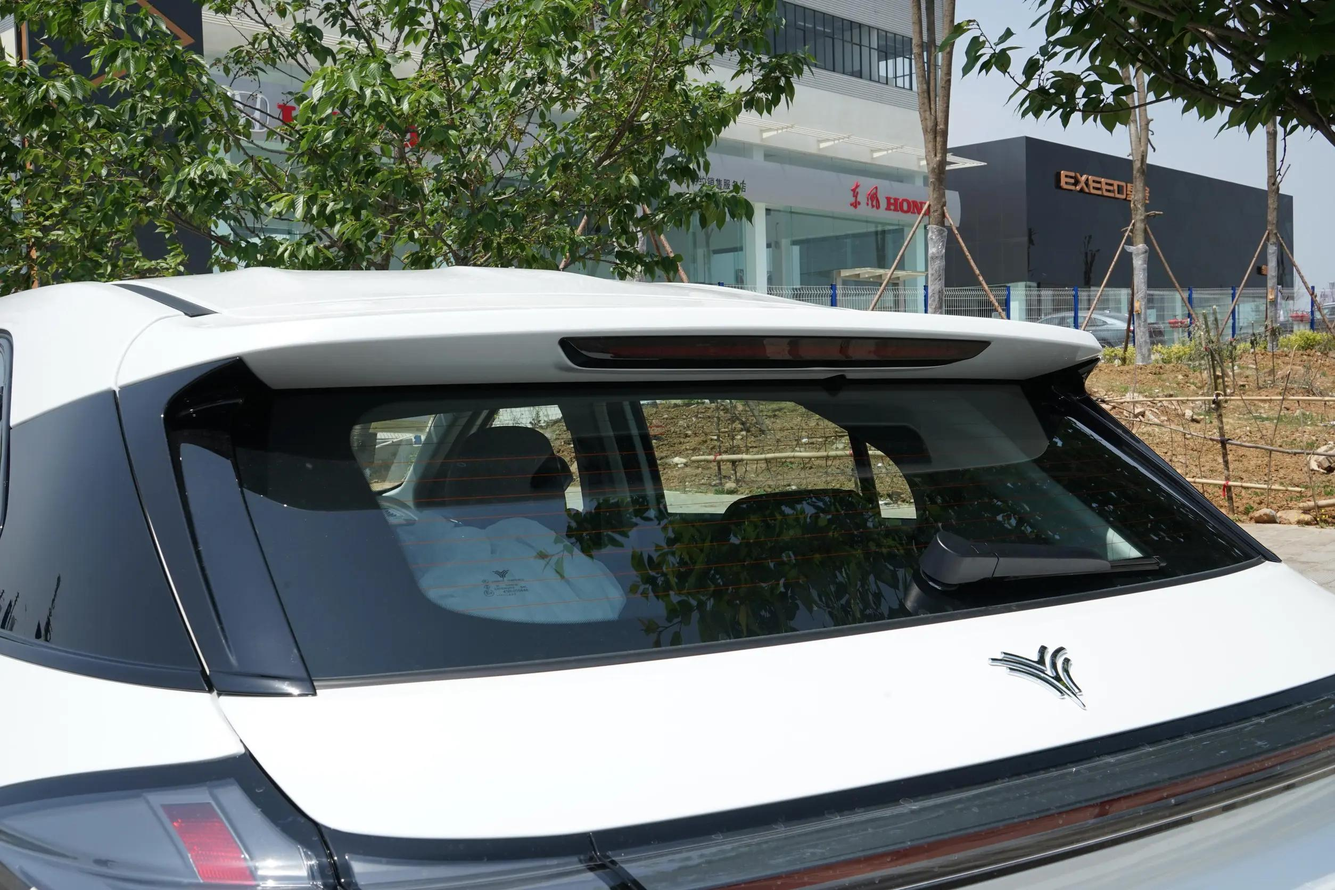NETA: (990, 645, 1087, 712)
